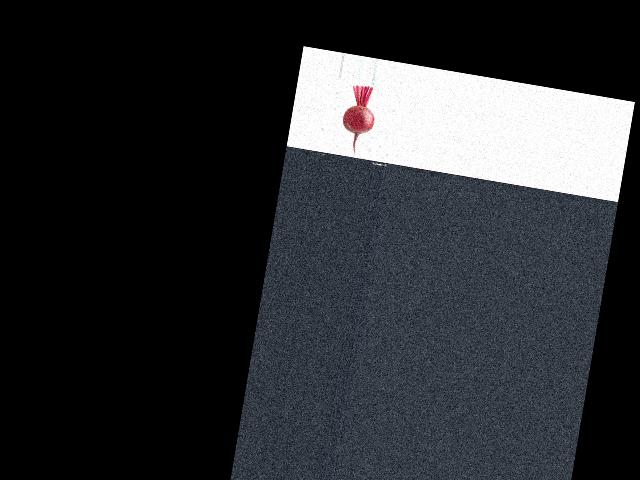beet: (337, 83, 379, 157)
